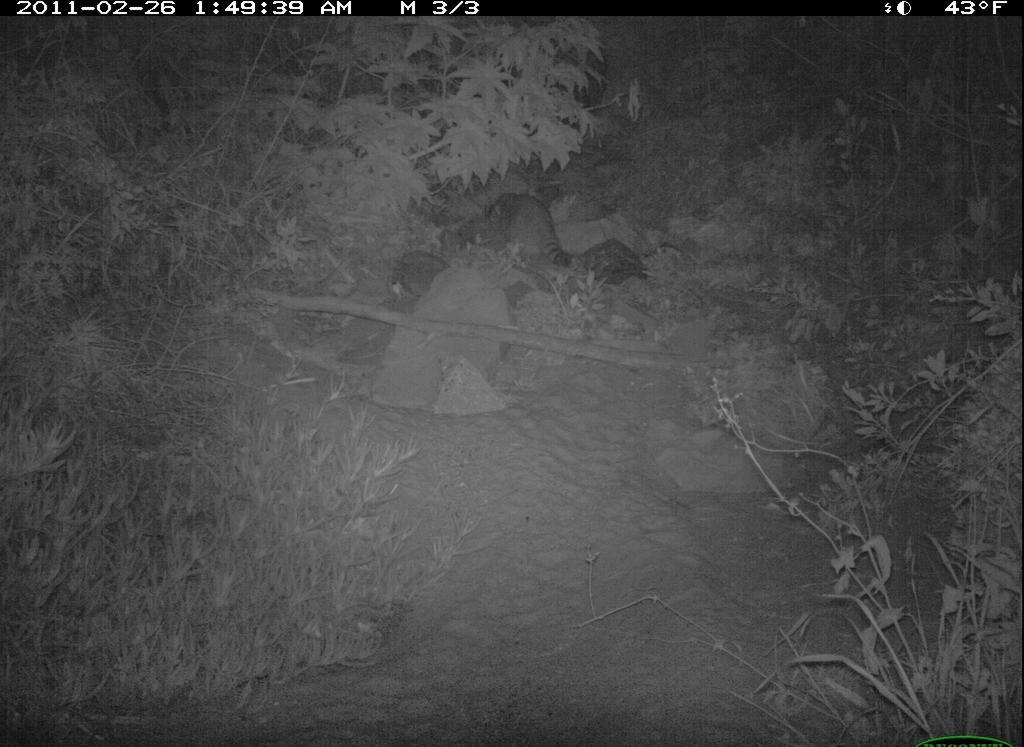raccoon: (482, 196, 598, 285)
